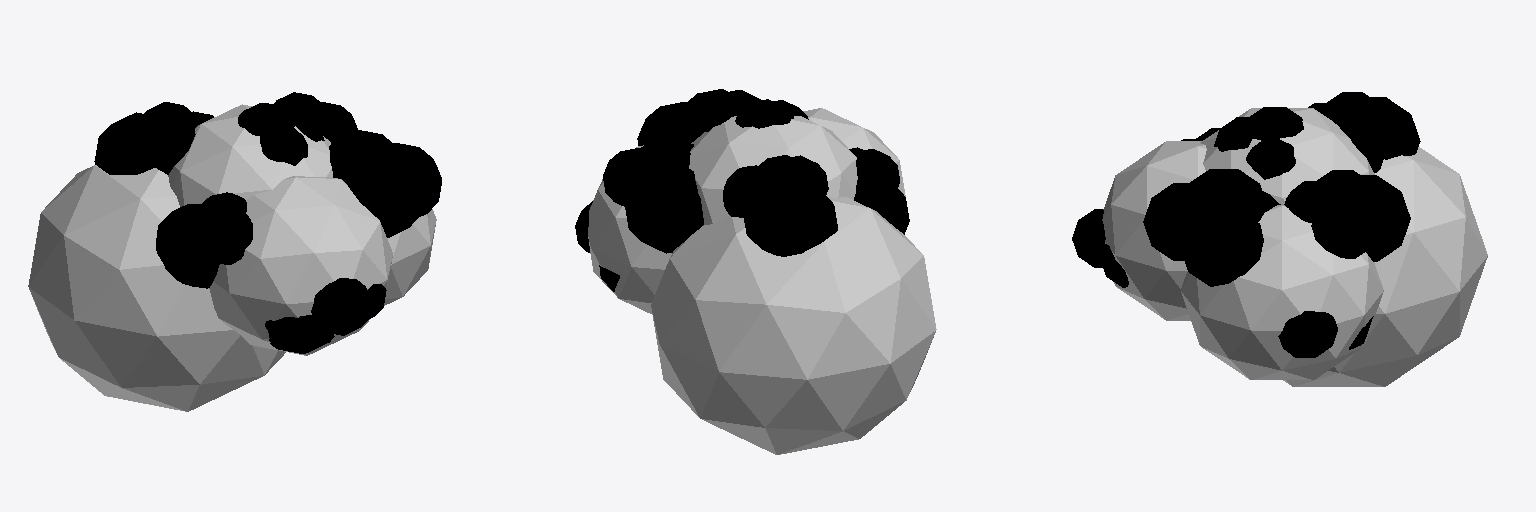
File: minerio.obj
3 views of the same model, side by side, from view 1: azimuth 30°, elevation 25°; view 2: azimuth 150°, elevation 25°; view 3: azimuth 270°, elevation 25° (orthographic).
Parts seen in each view (by area): view 1: Icosphere.001_Icosphere.000, Icosphere.004; view 2: Icosphere.001_Icosphere.000, Icosphere.004; view 3: Icosphere.001_Icosphere.000, Icosphere.004.
Boxes of the visible parts, box(x1,y1,x2,y2) form: Icosphere.001_Icosphere.000: box(28, 104, 436, 411); Icosphere.004: box(94, 92, 441, 353); Icosphere.001_Icosphere.000: box(588, 108, 936, 454); Icosphere.004: box(575, 89, 909, 291); Icosphere.001_Icosphere.000: box(1102, 108, 1487, 386); Icosphere.004: box(1072, 92, 1420, 357).
Bounding box in the file's own units: 3.59 × 2.94 × 3.69.